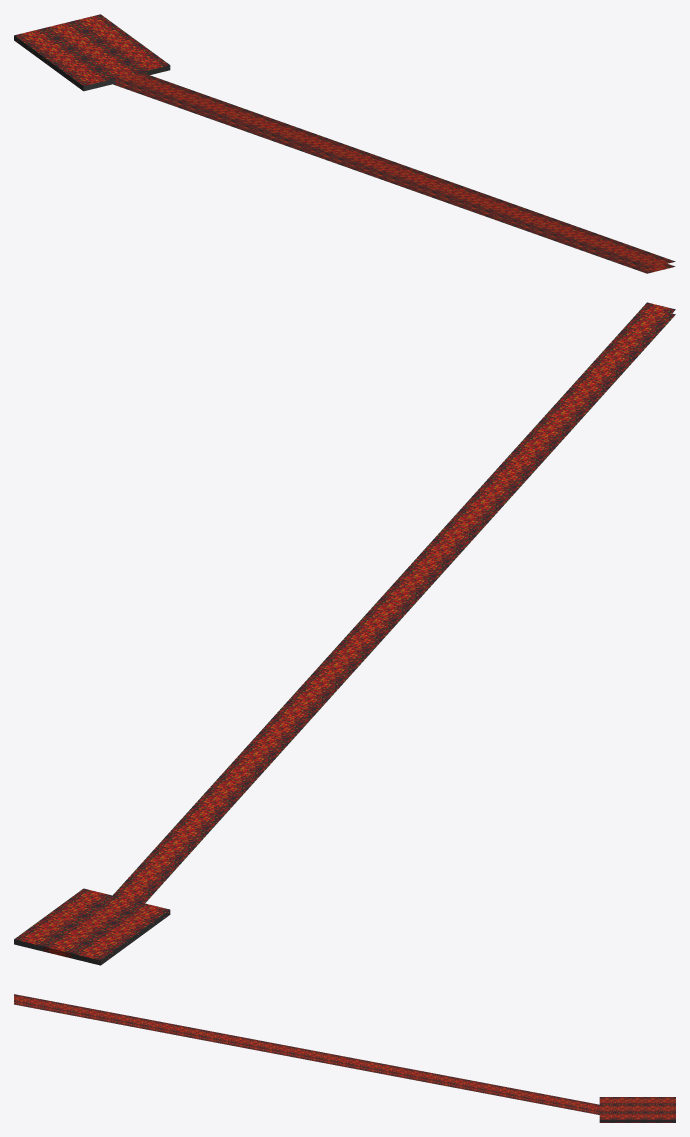
Rendered from OBJ_CourseAki_Floor_5.fbx.
3 views of the same model, one above another, from view 1: azimuth 30°, elevation 25°; view 2: azimuth 150°, elevation 25°; view 3: azimuth 270°, elevation 25° (orthographic). The views are drawn at different scales.
Visible parts, largest first — view 1: polySurface86; view 2: polySurface86; view 3: polySurface86.
Part boxes in pixels (x1,y1,x2,y2): polySurface86: [14, 14, 675, 273]; polySurface86: [14, 302, 675, 965]; polySurface86: [14, 994, 675, 1122].
Size of the model in its own units: 18 by 41 by 217.
1 material, 1 textured.
